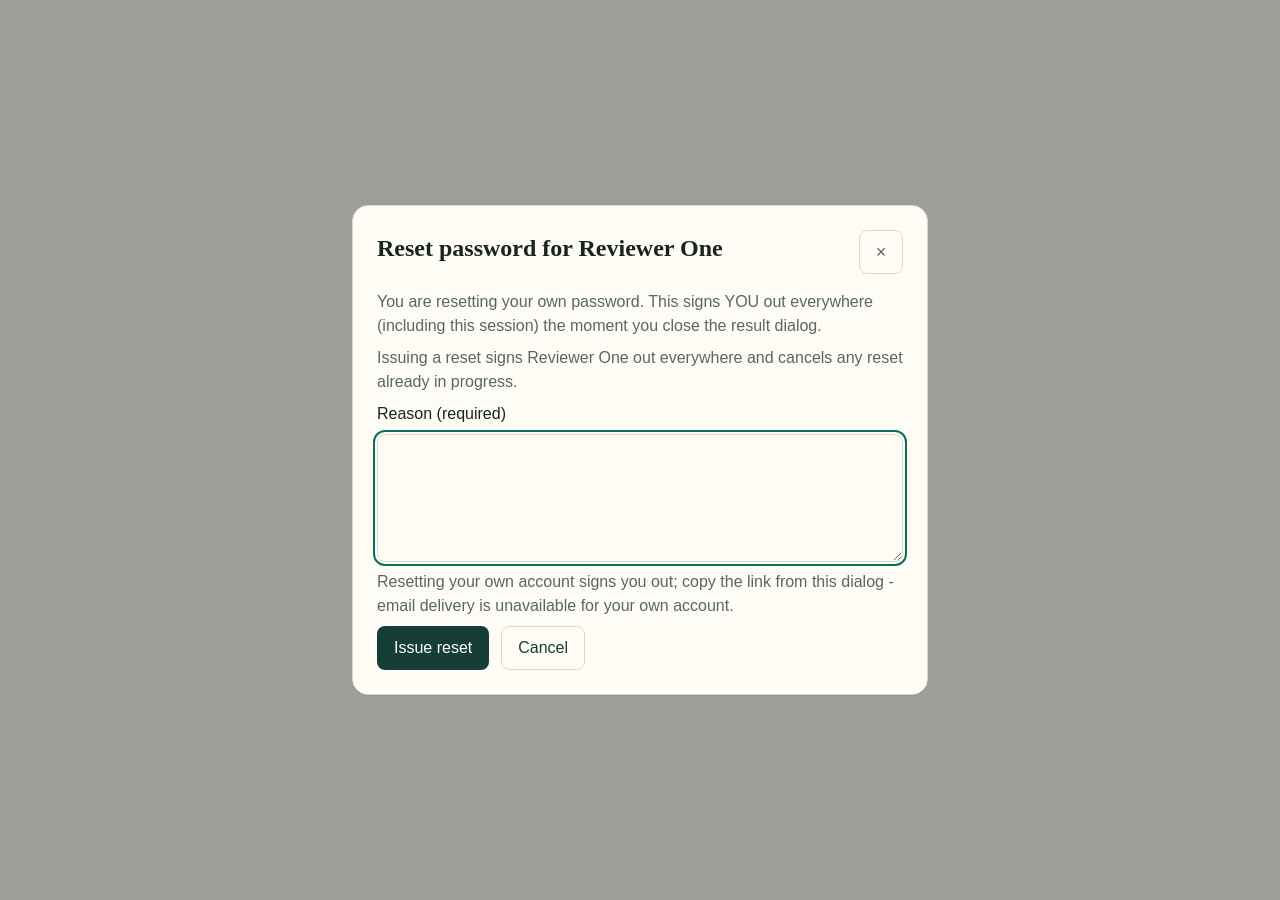
Scenario: AccountPasswordResetModal › forces handoff delivery when resetting the current account
Expected: the text "email delivery is unavailable for your own account" is shown, [377, 573, 894, 614]
Type "Rotating my own password after a device loss." into the text box labelled "Reason (required)" at (640, 498), box [377, 434, 903, 562]
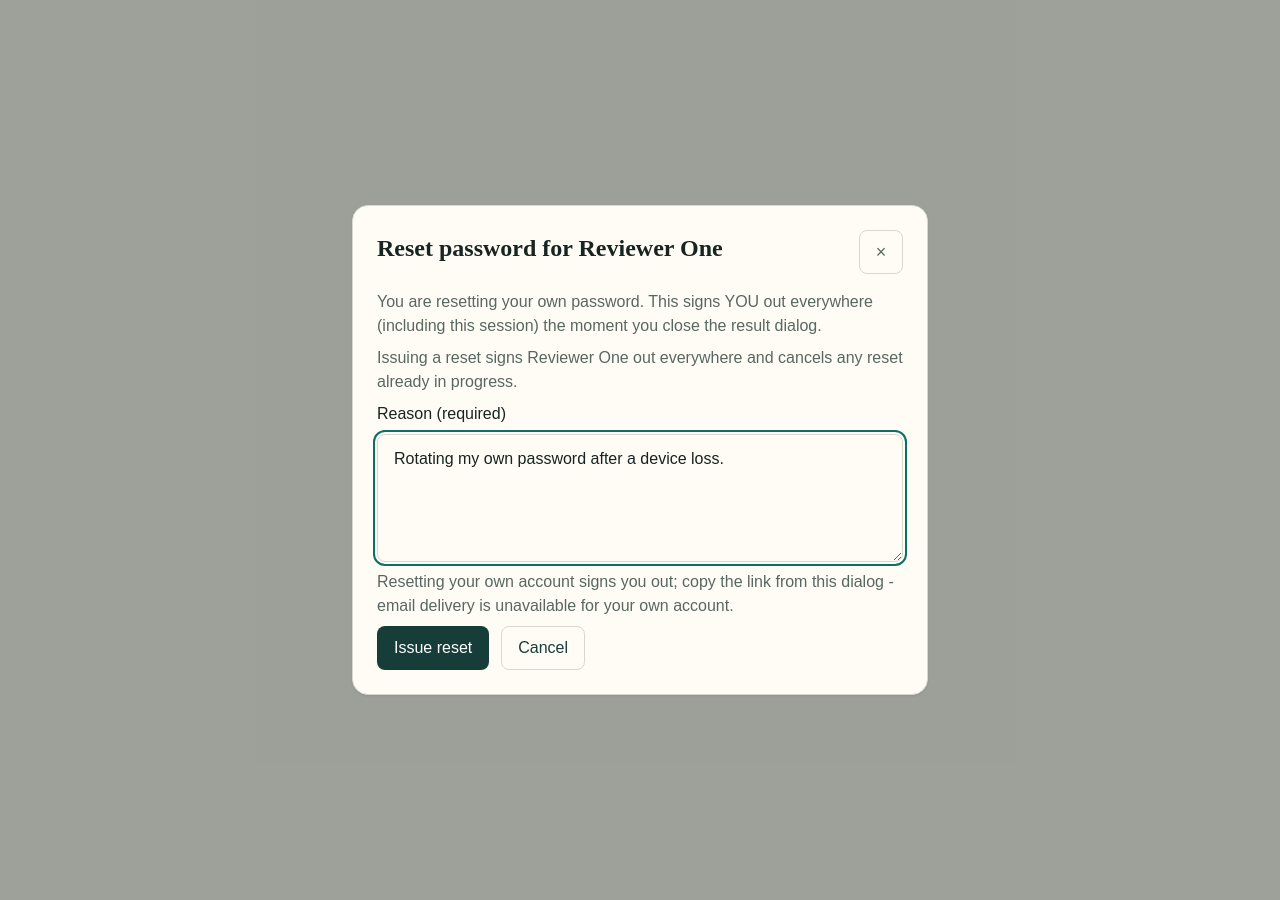
Click the button "Issue reset" at (433, 648), box [377, 626, 489, 670]
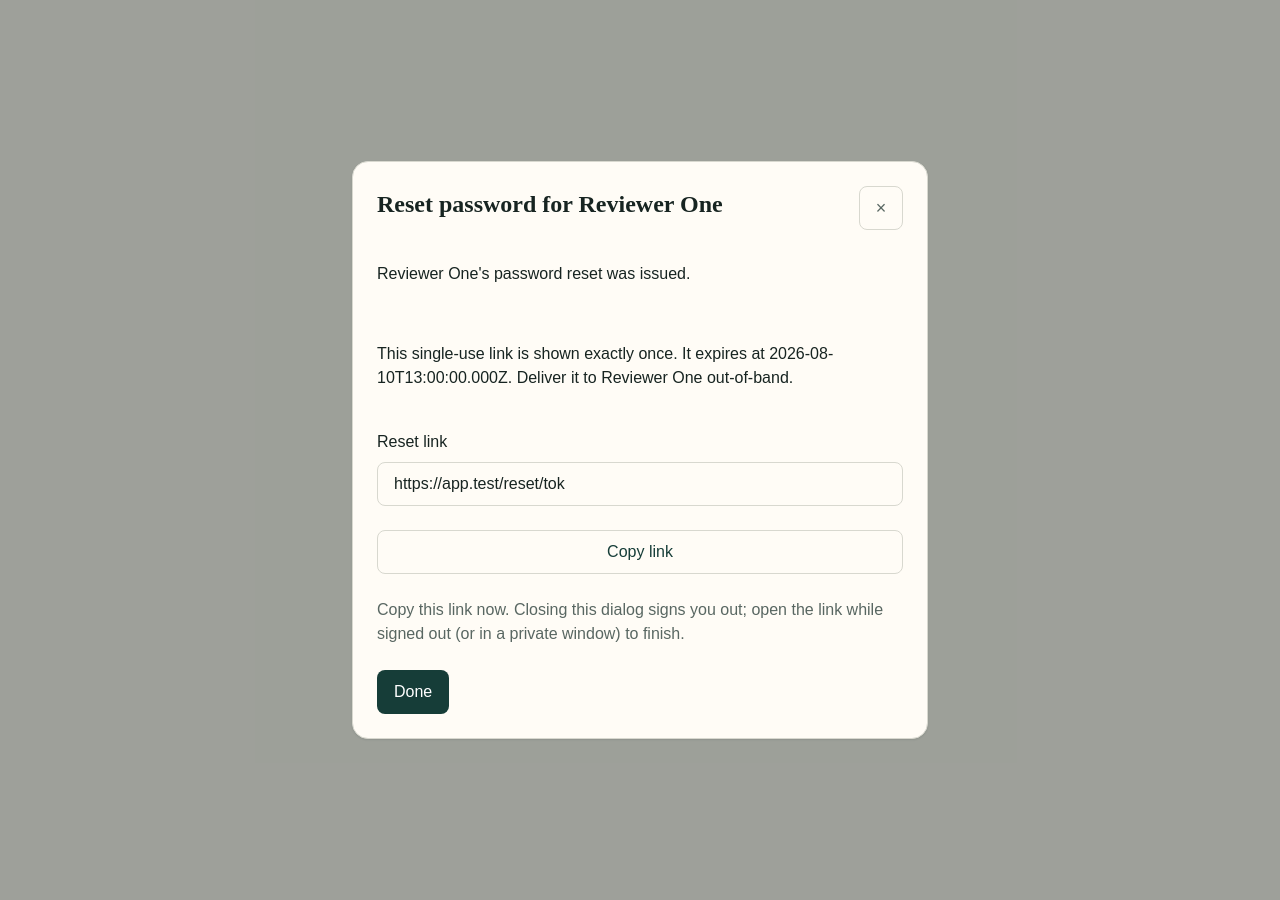
Expected: the field showing "https://app.test/reset/tok" is shown, [377, 462, 903, 506]
